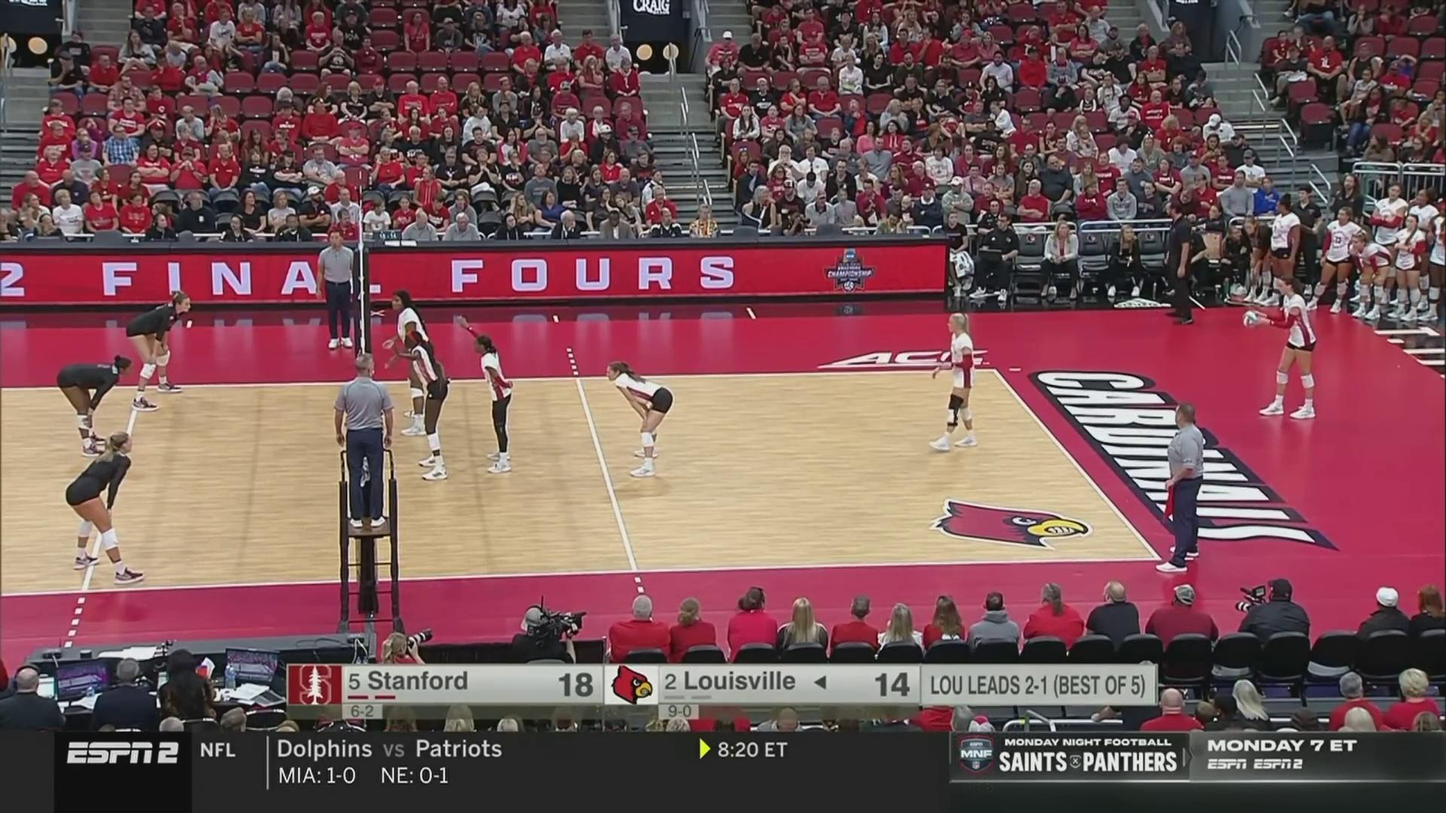player: (65, 433, 146, 581), (1259, 278, 1316, 419), (124, 294, 191, 412), (462, 324, 514, 471), (607, 361, 673, 474), (57, 356, 132, 455), (386, 291, 436, 434), (403, 332, 451, 480), (928, 310, 973, 451)
refree: (331, 358, 397, 528), (1155, 403, 1205, 572), (319, 232, 356, 344)
